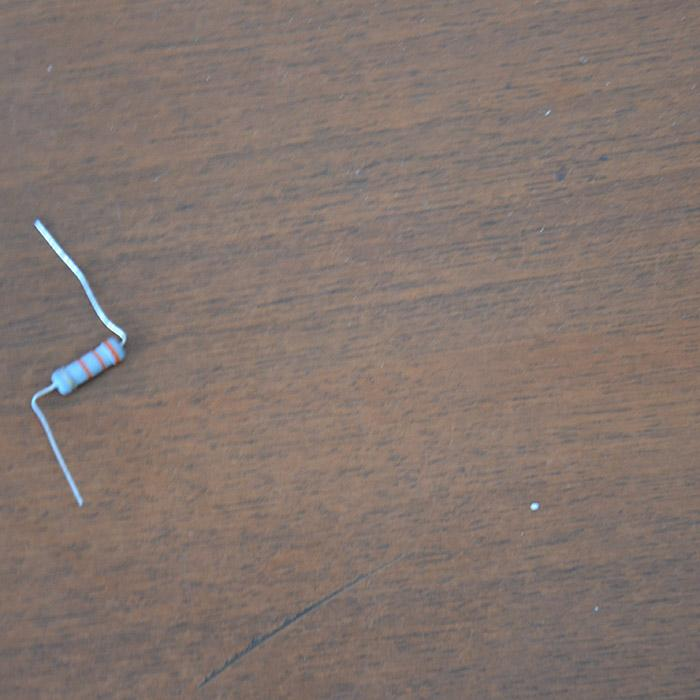resistor: (49, 335, 127, 396)
